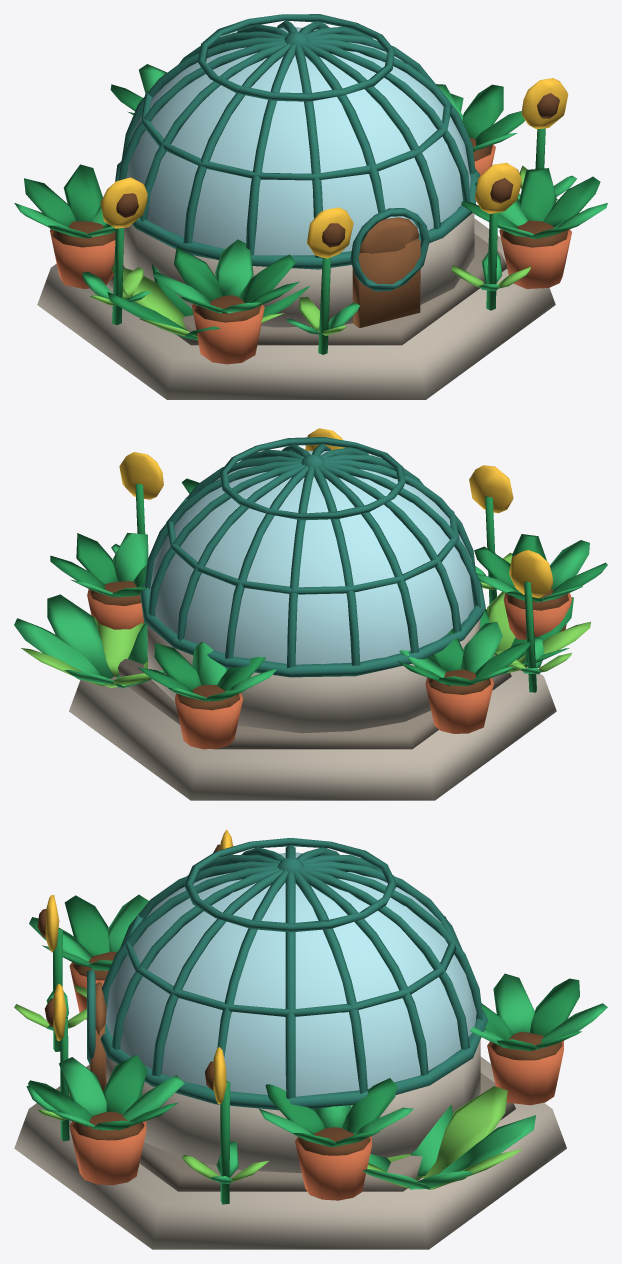
The model's file is ciencias.glb.
The picture shows the model from 3 angles, top to bottom: view 1: azimuth 30°, elevation 25°; view 2: azimuth 150°, elevation 25°; view 3: azimuth 270°, elevation 25°; orthographic projection. The views are drawn at different scales.
Parts seen in each view (by area): view 1: Ciencias_estrutura, Ciencias_Foliage; view 2: Ciencias_estrutura, Ciencias_Foliage; view 3: Ciencias_estrutura, Ciencias_Foliage.
Boxes of the visible parts, x1,y1,x2,y2 form: Ciencias_estrutura: (37,14,571,399); Ciencias_Foliage: (14,64,607,340); Ciencias_estrutura: (69,428,572,800); Ciencias_Foliage: (14,467,607,701); Ciencias_estrutura: (14,829,566,1249); Ciencias_Foliage: (14,894,607,1189).
Bounding box in the file's own units: 4.15 × 2.4 × 4.08.
